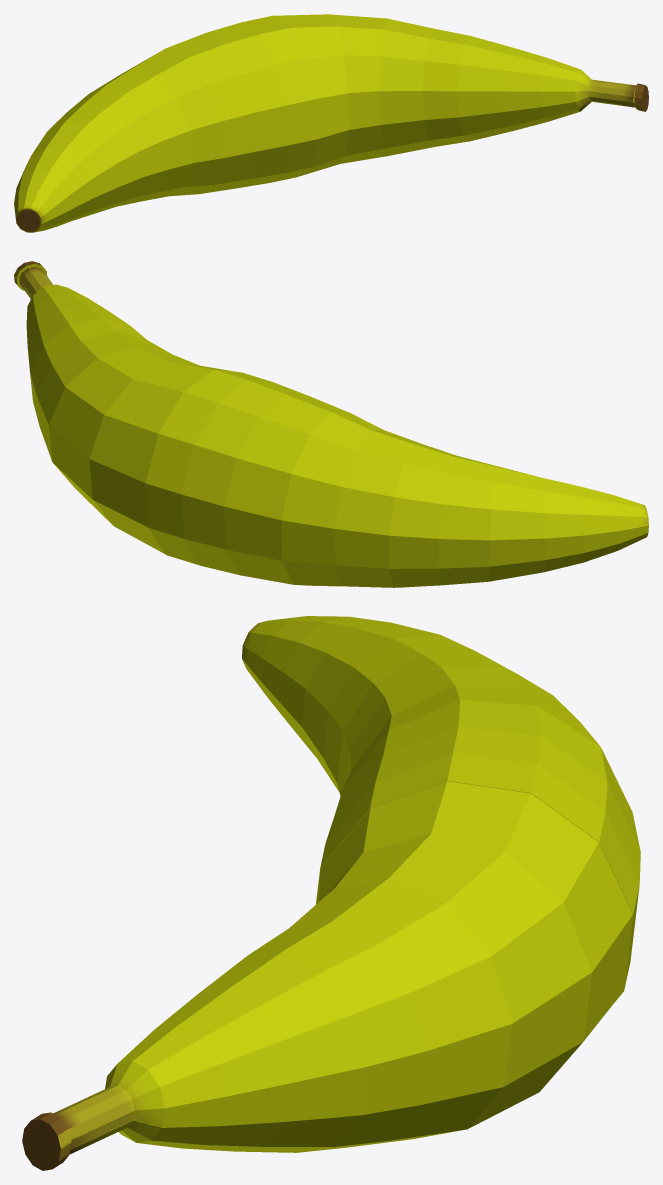
File: Bannana.glb
3 views of the same model, one above another, from view 1: azimuth 30°, elevation 25°; view 2: azimuth 150°, elevation 25°; view 3: azimuth 270°, elevation 25° (orthographic). The views are drawn at different scales.
Parts seen in each view (by area): view 1: Cylinder; view 2: Cylinder; view 3: Cylinder.
Boxes of the visible parts, box(x1,y1,x2,y2) form: Cylinder: box(14, 14, 648, 232); Cylinder: box(14, 261, 648, 587); Cylinder: box(22, 616, 640, 1170).
Size of the model in its own units: 8.13 by 1.98 by 3.77.
1 material, 1 textured.
